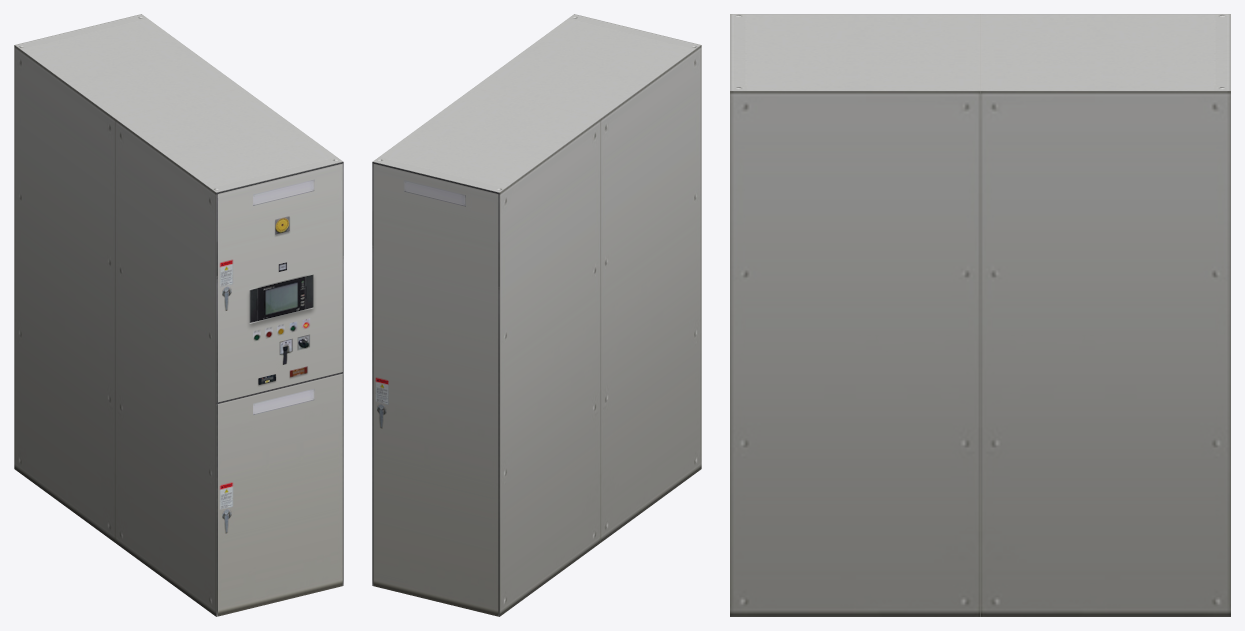
3 views of the same model, side by side, from view 1: azimuth 30°, elevation 25°; view 2: azimuth 150°, elevation 25°; view 3: azimuth 270°, elevation 25° (orthographic). The views are drawn at different scales.
Parts seen in each view (by area): view 1: HV_1P_04; view 2: HV_1P_04; view 3: HV_1P_04.
Boxes of the visible parts, left/top/right/bottom form: HV_1P_04: left=14, top=14, right=343, bottom=616; HV_1P_04: left=372, top=14, right=701, bottom=616; HV_1P_04: left=730, top=14, right=1230, bottom=616.
Bounding box in the file's own units: 0.8 × 2.55 × 2.2.
1 material, 1 textured.
